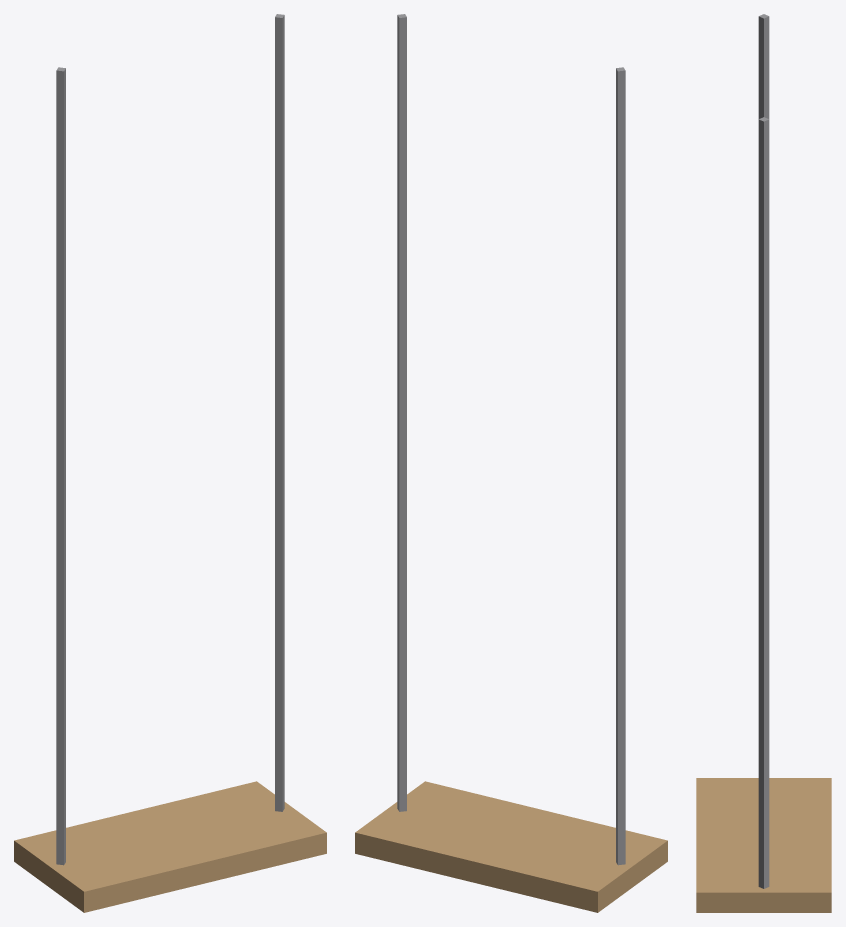
File: swing_seat.glb
The picture shows the model from 3 angles, left to right: view 1: azimuth 30°, elevation 25°; view 2: azimuth 150°, elevation 25°; view 3: azimuth 270°, elevation 25°; orthographic projection. The views are drawn at different scales.
Parts seen in each view (by area): view 1: SwingSeat; view 2: SwingSeat; view 3: SwingSeat.
Part boxes in pixels (x1,y1,x2,y2): SwingSeat: (14,14,326,912); SwingSeat: (355,14,667,912); SwingSeat: (696,14,831,912).
Bounding box in the file's own units: 0.6 × 1.92 × 0.3.
